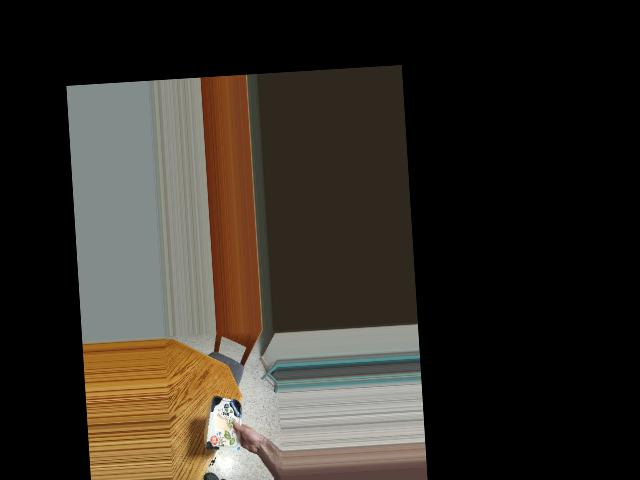cheese: (202, 395, 246, 451)
